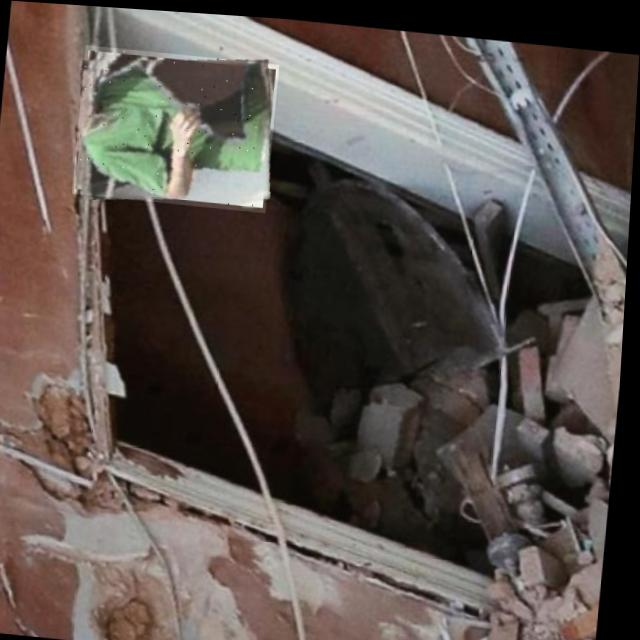Person in Rubble: (73, 42, 280, 208)
